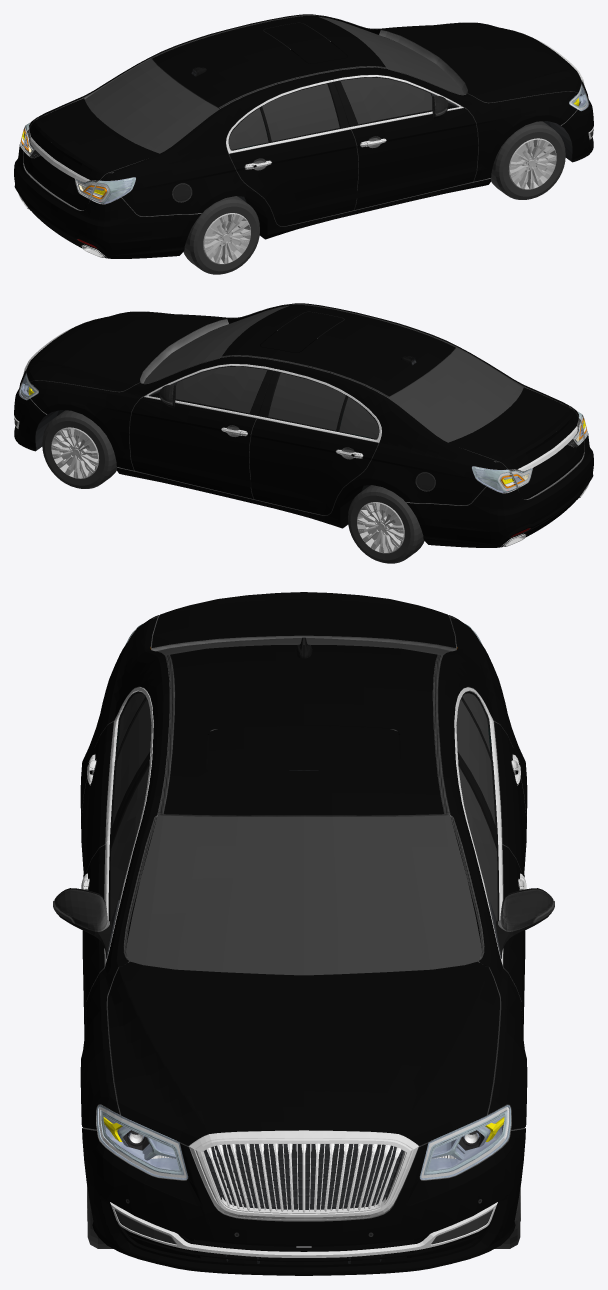
Rendered from jiaoche003.fbx.
3 views of the same model, one above another, from view 1: azimuth 30°, elevation 25°; view 2: azimuth 150°, elevation 25°; view 3: azimuth 270°, elevation 25° (orthographic). The views are drawn at different scales.
Visible parts, largest first — view 1: jiaoche003; view 2: jiaoche003; view 3: jiaoche003.
Boxes of the visible parts, x1,y1,x2,y2 form: jiaoche003: (14, 14, 593, 274); jiaoche003: (14, 303, 593, 563); jiaoche003: (53, 592, 554, 1275).
Size of the model in its own units: 5.09 by 1.51 by 2.1.
